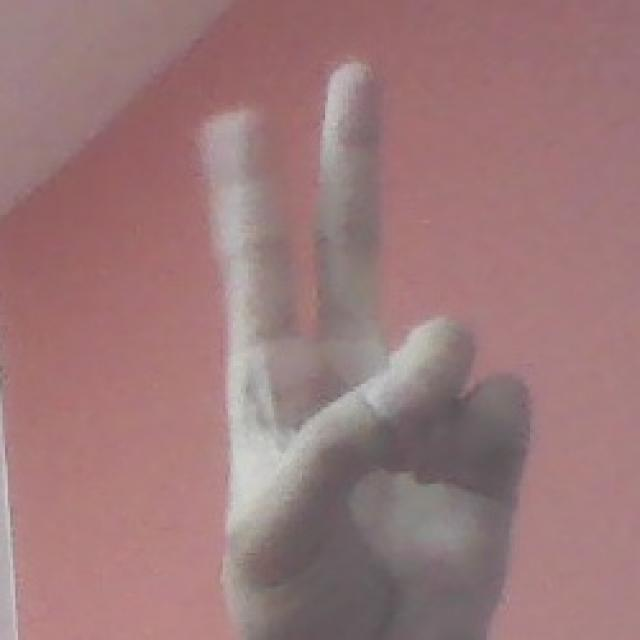Numeric-2: (208, 55, 532, 625)
